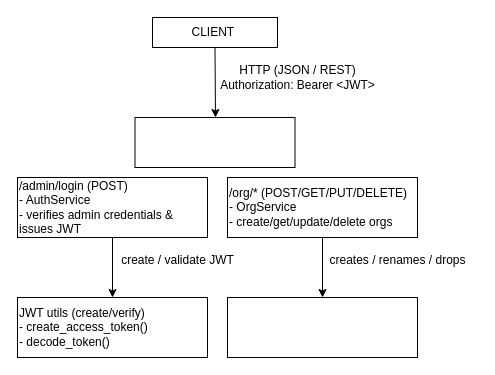
This 495x375 diagram has some shape labels left out. Each missing label, with the centre of its shape:
"FastAPI BACKEND (app.main, routers, services)" goes at (214,142).
"org-specific dynamic collection(s) (e.g. org_testorg)" goes at (322,327).
